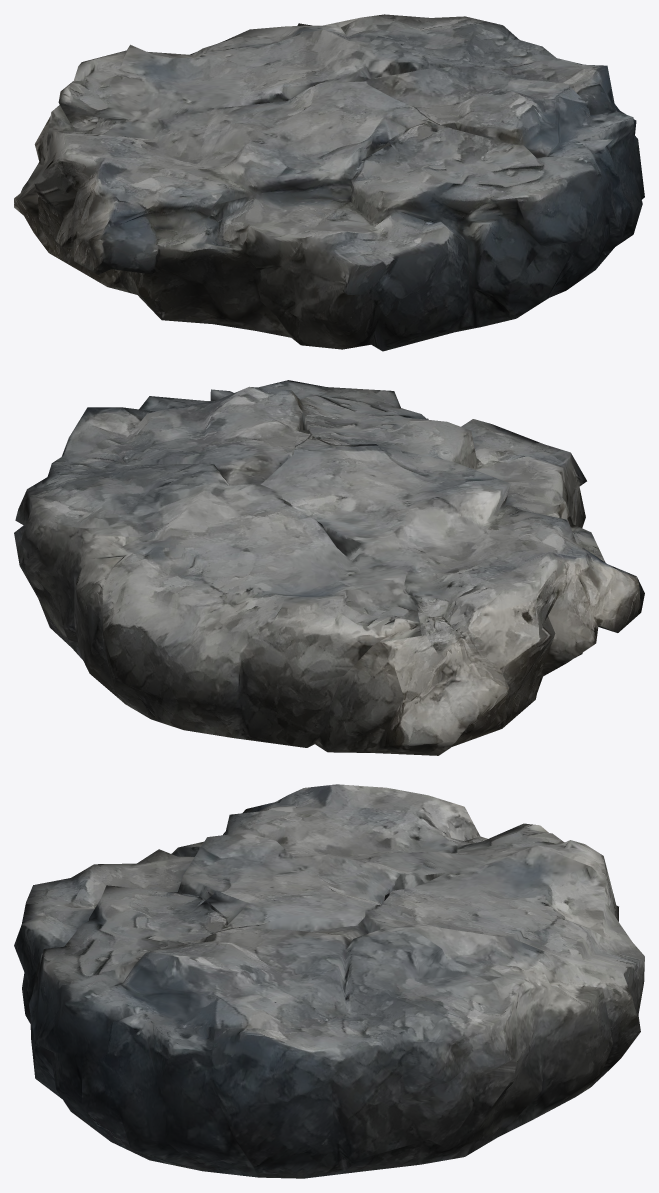
Rendered from roccia2.glb.
3 renders of one model, top to bottom at view 1: azimuth 30°, elevation 25°; view 2: azimuth 150°, elevation 25°; view 3: azimuth 270°, elevation 25°, orthographic. The views are drawn at different scales.
Parts seen in each view (by area): view 1: tripo_node_42b2e2d1-2a49-433c-a9b5-b24b3f720da1; view 2: tripo_node_42b2e2d1-2a49-433c-a9b5-b24b3f720da1; view 3: tripo_node_42b2e2d1-2a49-433c-a9b5-b24b3f720da1.
Boxes of the visible parts, <box> form: tripo_node_42b2e2d1-2a49-433c-a9b5-b24b3f720da1: <box>14,14,644,351</box>; tripo_node_42b2e2d1-2a49-433c-a9b5-b24b3f720da1: <box>14,380,644,755</box>; tripo_node_42b2e2d1-2a49-433c-a9b5-b24b3f720da1: <box>14,784,644,1178</box>.
Size of the model in its own units: 1 by 0.2744 by 0.9169.
Materials: 1 (1 with a texture image).
